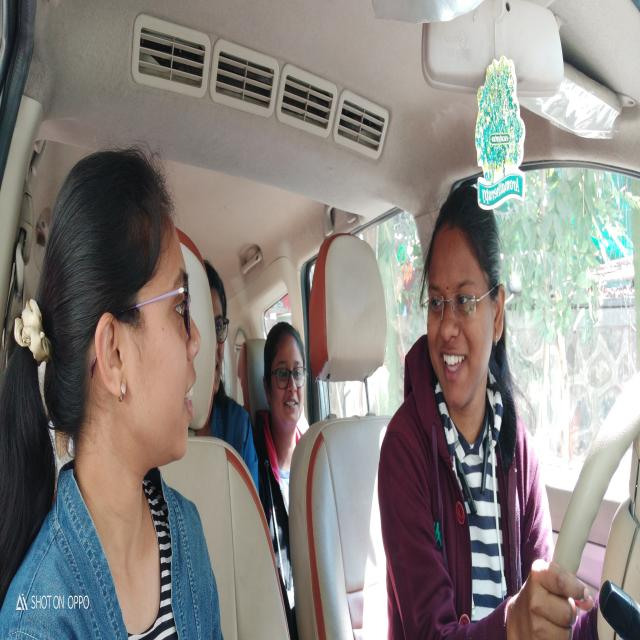LeftRight: (92, 166, 202, 461), (425, 189, 505, 409)
person: (266, 318, 307, 427), (211, 272, 231, 394)
talking: (439, 349, 469, 375), (185, 376, 199, 418)
